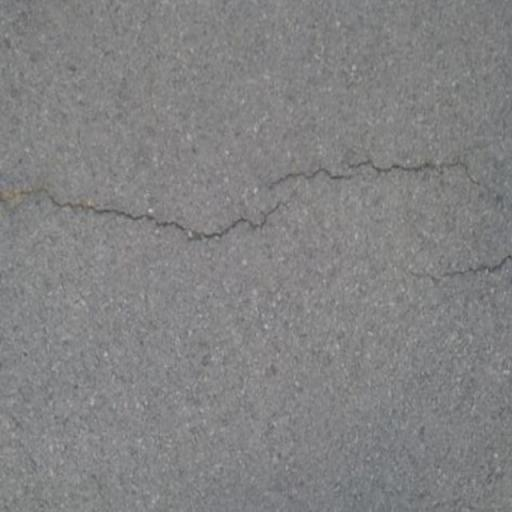moderate crack: (0, 178, 298, 248), (267, 150, 488, 196), (414, 248, 512, 288)
